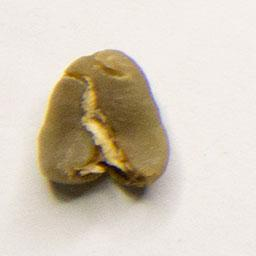defect: (30, 41, 176, 198)
